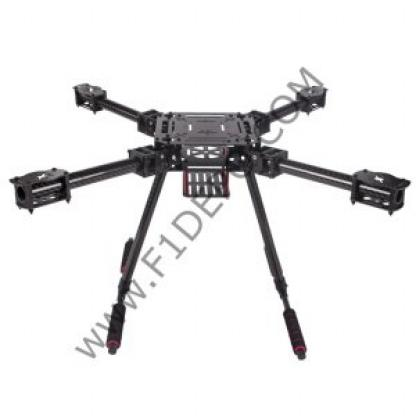drone: (7, 71, 415, 272)
